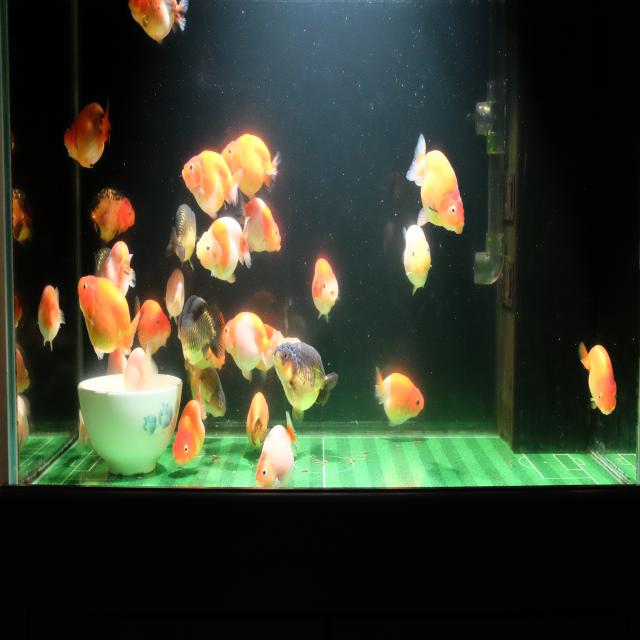Tilapia: (405, 130, 466, 237), (272, 339, 339, 428), (77, 272, 140, 362), (180, 149, 242, 222), (220, 132, 283, 200), (222, 309, 278, 384), (176, 294, 225, 376), (195, 216, 252, 286), (255, 411, 299, 489), (374, 364, 425, 430), (63, 101, 111, 171), (171, 381, 208, 470), (578, 338, 618, 418), (133, 292, 172, 365), (128, 0, 189, 46), (88, 185, 136, 243), (164, 202, 200, 273), (242, 197, 282, 255), (402, 222, 432, 297), (189, 362, 227, 420), (310, 254, 341, 324), (37, 284, 66, 353), (245, 388, 270, 452), (11, 187, 33, 246), (165, 268, 185, 326)
